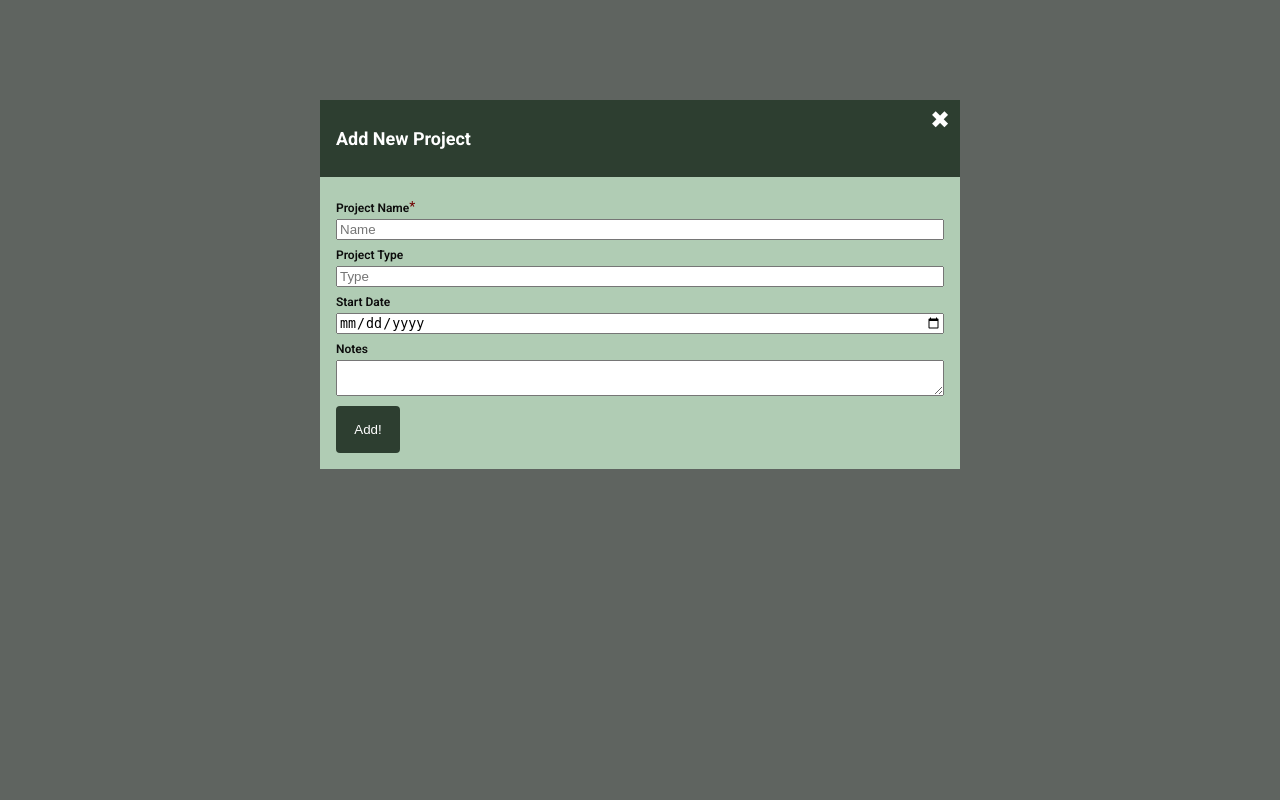
Test case: AddItemModal › shows validation error when name is missing
Click the button "Add!".
click(368, 430)  # box [336,406,400,453]
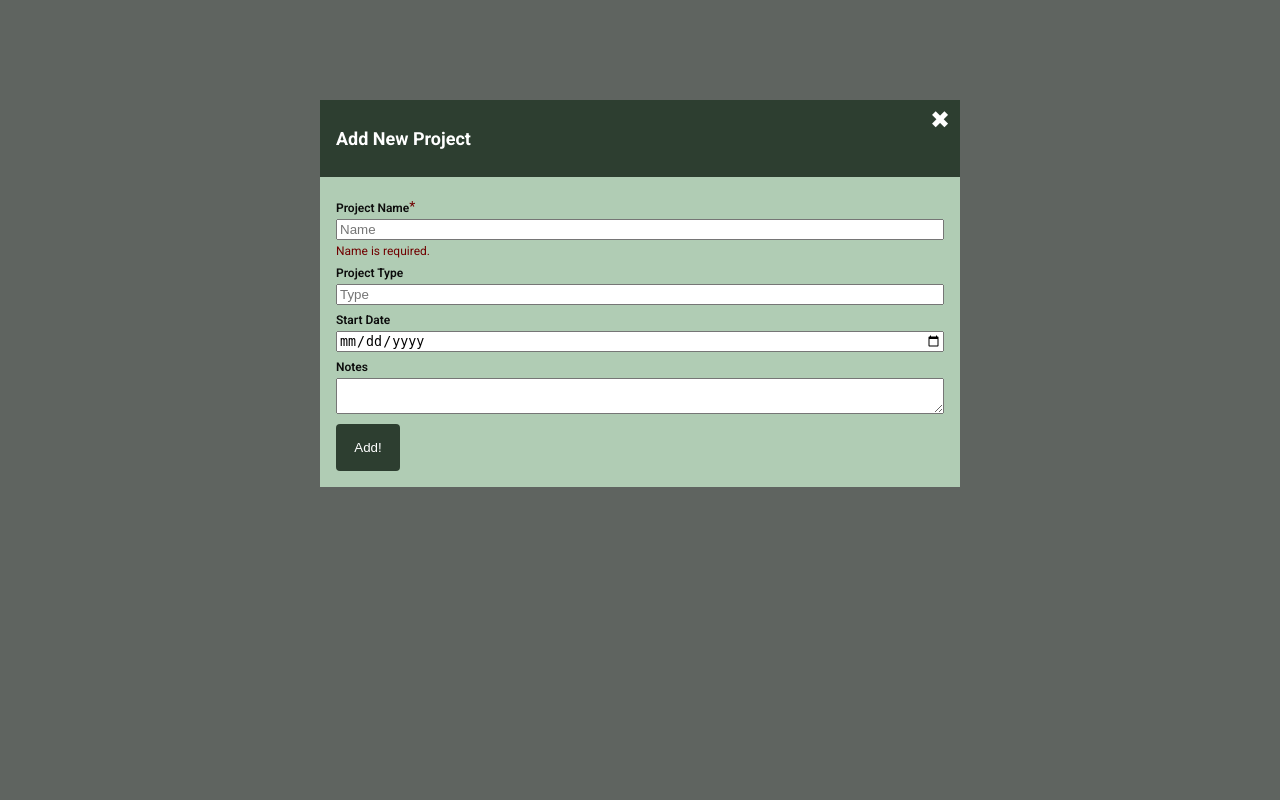
Result: the text "Name is required." is shown at [336,244,430,258]
